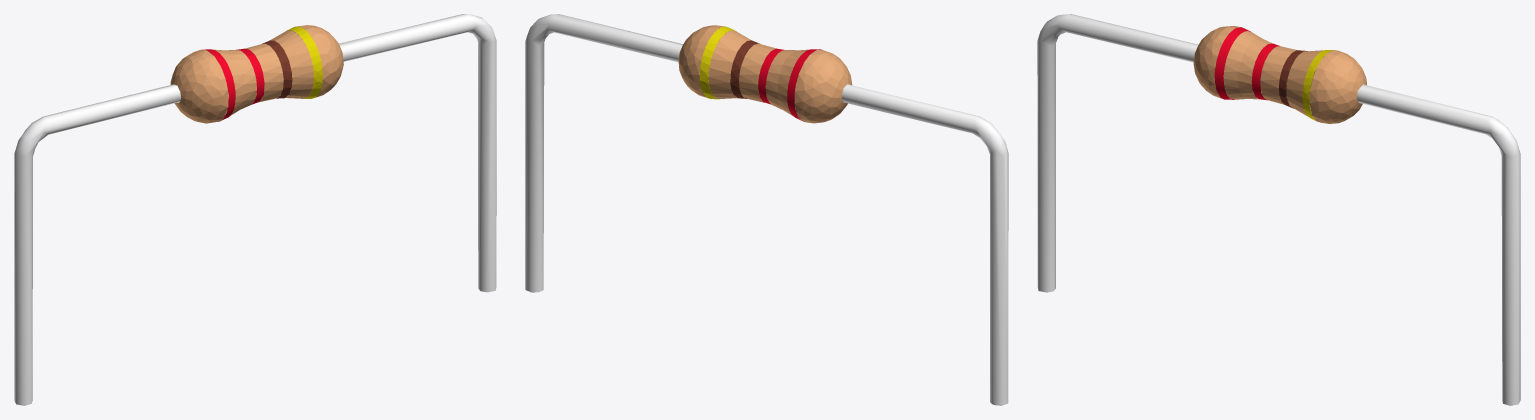
File: resistor220.fbx
3 views of the same model, side by side, from view 1: azimuth 30°, elevation 25°; view 2: azimuth 150°, elevation 25°; view 3: azimuth 330°, elevation 25° (orthographic).
Parts seen in each view (by area): view 1: 220ohm; view 2: 220ohm; view 3: 220ohm.
Part boxes in pixels (x1=…): 220ohm: x1=14, y1=14, x2=496, y2=405; 220ohm: x1=525, y1=14, x2=1008, y2=405; 220ohm: x1=1037, y1=14, x2=1520, y2=405.
Bounding box in the file's own units: 1.79 × 1.08 × 0.2409.
